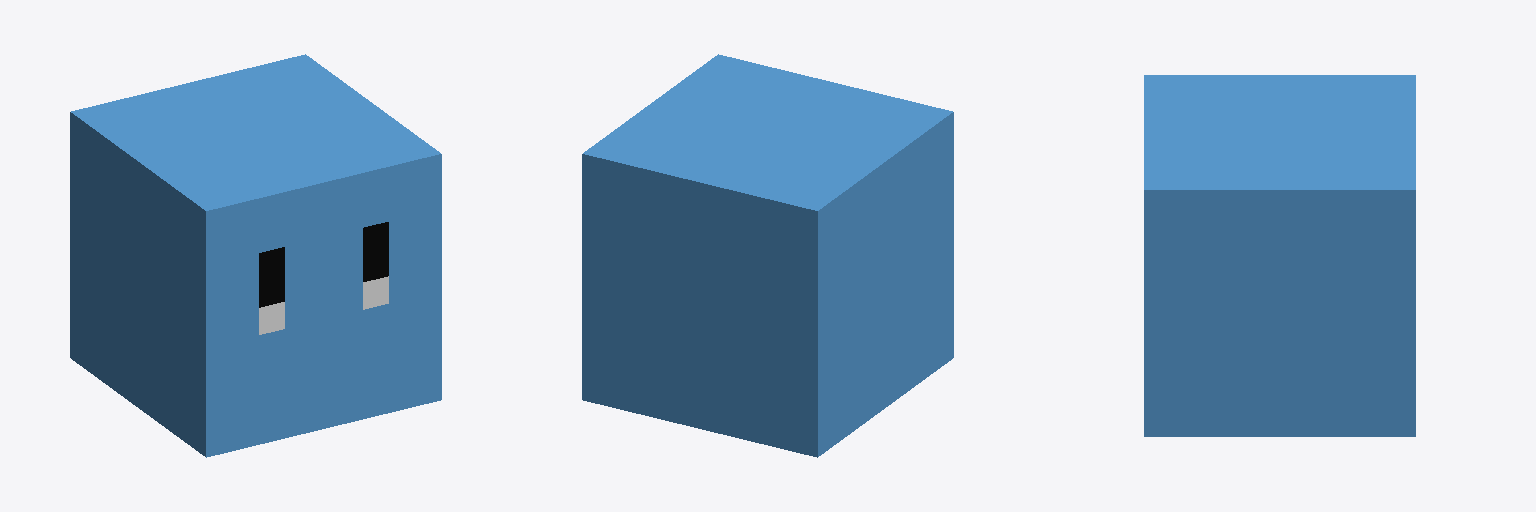
3 views of the same model, side by side, from view 1: azimuth 30°, elevation 25°; view 2: azimuth 150°, elevation 25°; view 3: azimuth 270°, elevation 25° (orthographic).
Parts seen in each view (by area): view 1: object 1; view 2: object 1; view 3: object 1.
Part boxes in pixels (x1,y1,x2,y2): object 1: (70,54,441,457); object 1: (582,54,953,457); object 1: (1144,75,1415,436).
Size of the model in its own units: 0.9 by 0.9 by 0.9.
Materials: 1 (1 with a texture image).